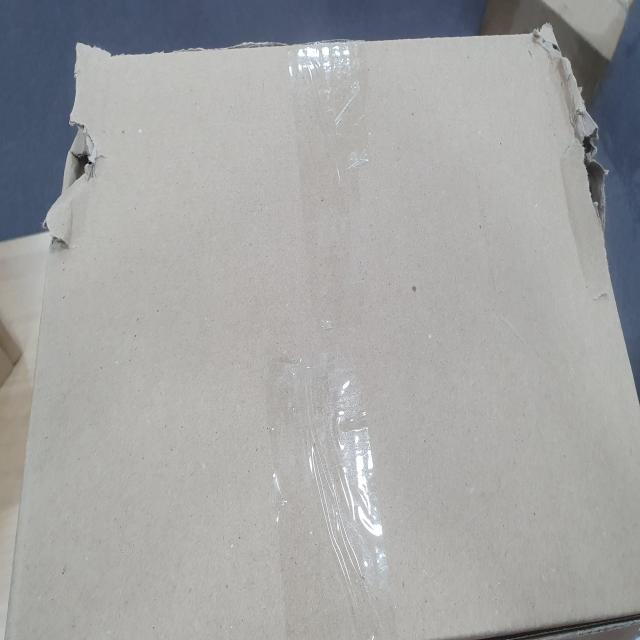damaged: (578, 124, 606, 230), (66, 134, 101, 196)
